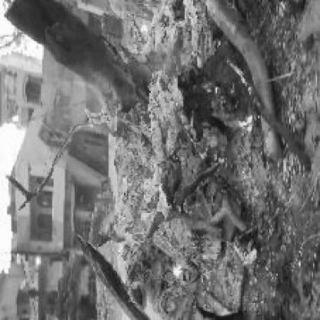Fire: (225, 103, 262, 143)
